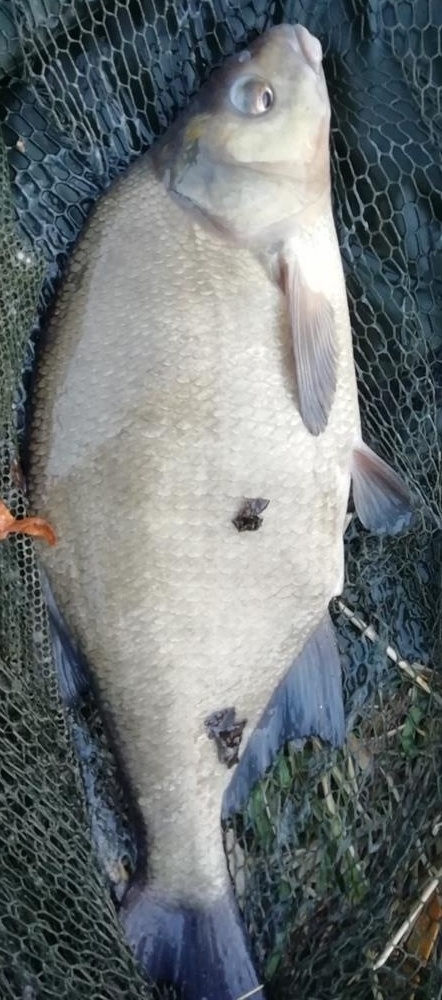Abramis brama: (20, 20, 422, 1000)
